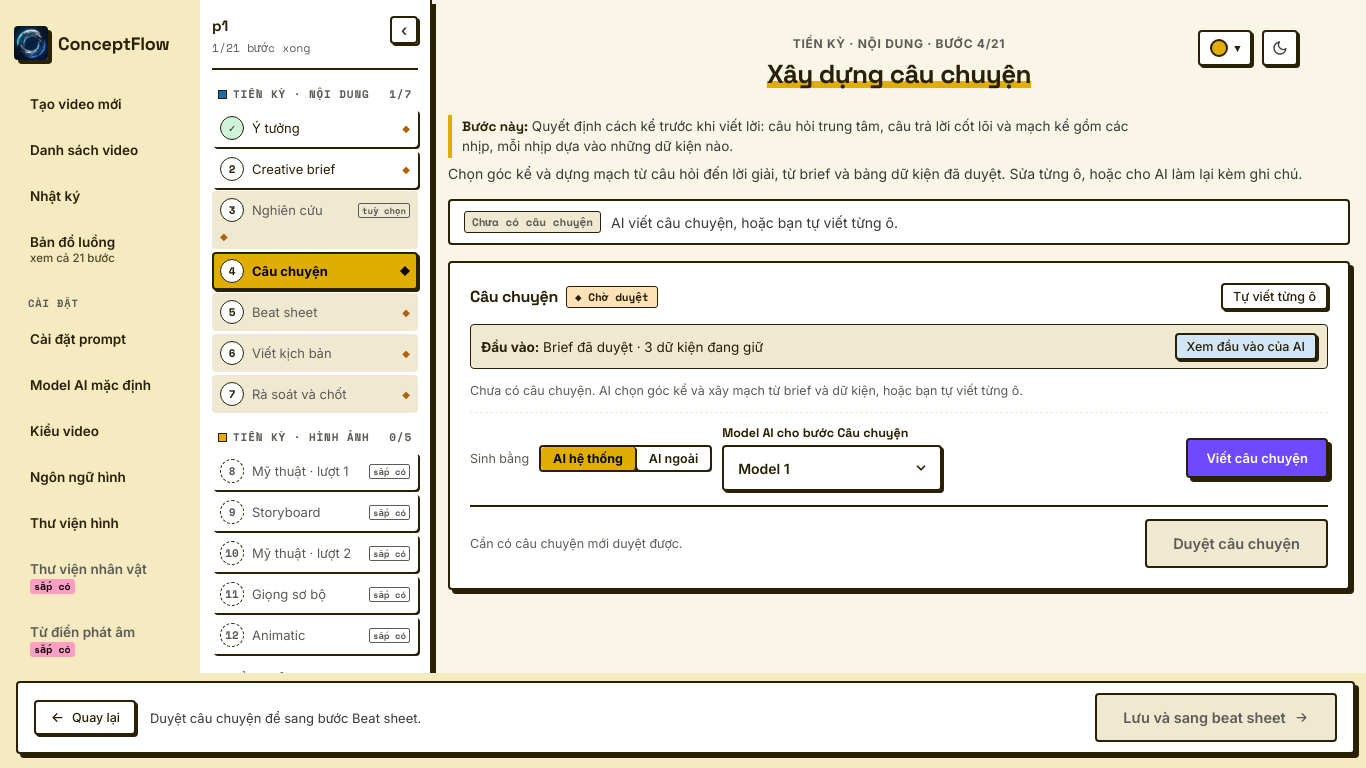
StoryStepPage › lets the AI write the story when none exists yet
Expected: the element with test id "story-card" is shown, [448,261,1350,590]
Expected: the message with test id "step-strip" shows "Chưa có câu chuyện", [472,214,593,230]
Click the button with test id "story-generate" at (1257, 458), box [1186,438,1328,478]
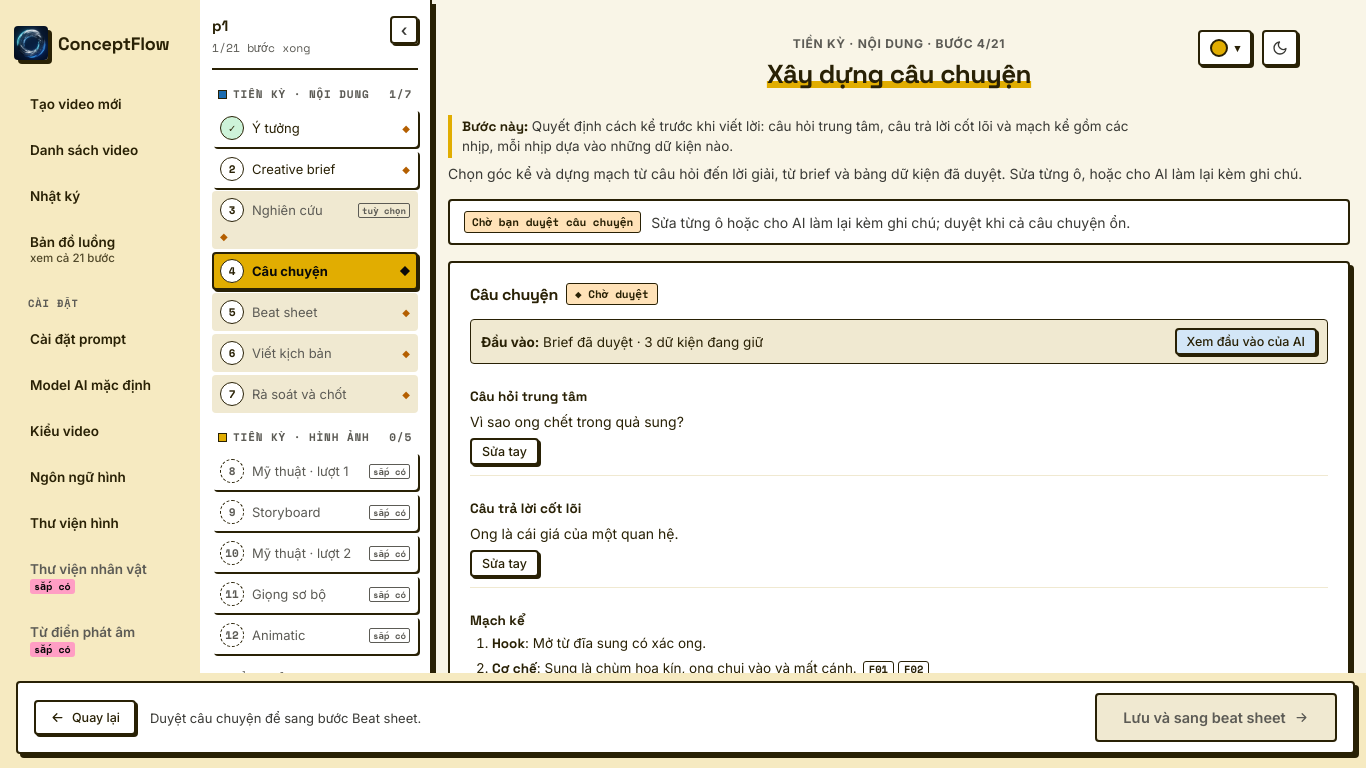
Expected: the element with test id "story-field-central_question" shows "Vì sao ong chết trong quả sung?", [470,413,684,430]
Expected: the button with test id "story-generate" is gone
